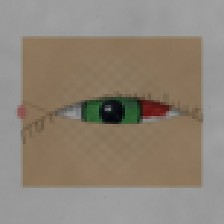hemorrhage_spot: (114, 75, 182, 130)
